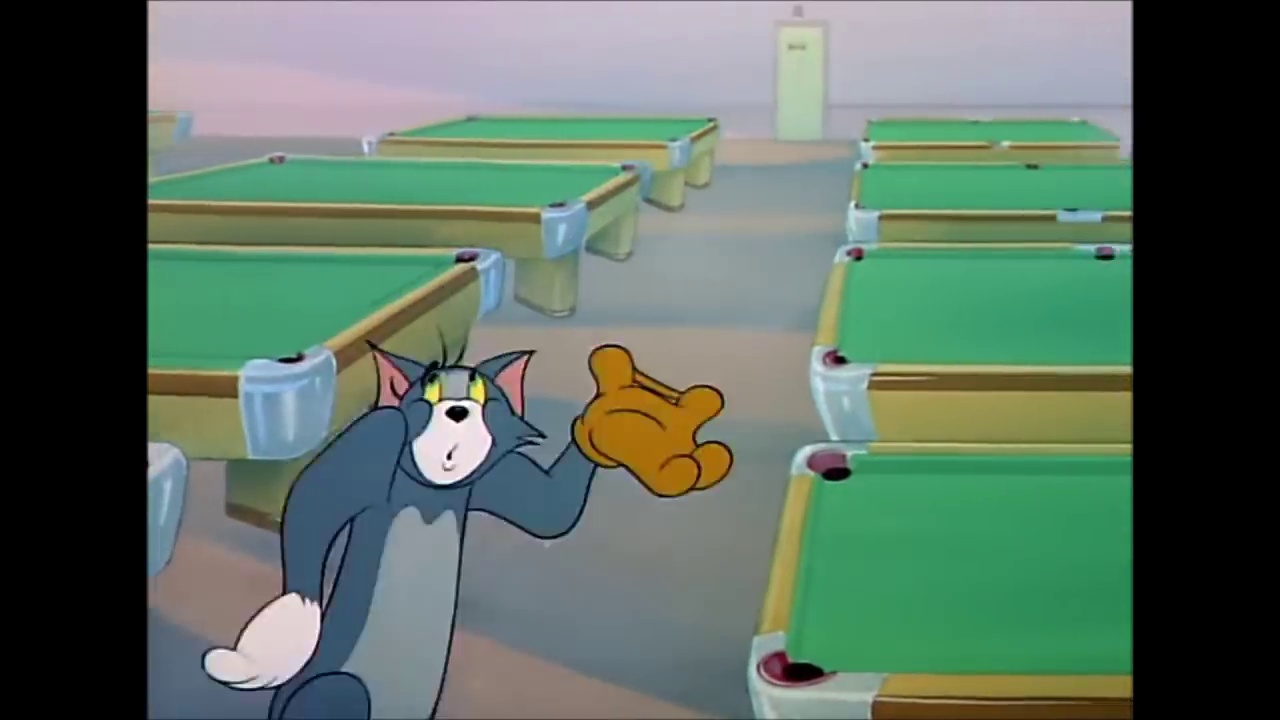surprised: (412, 362, 486, 487)
